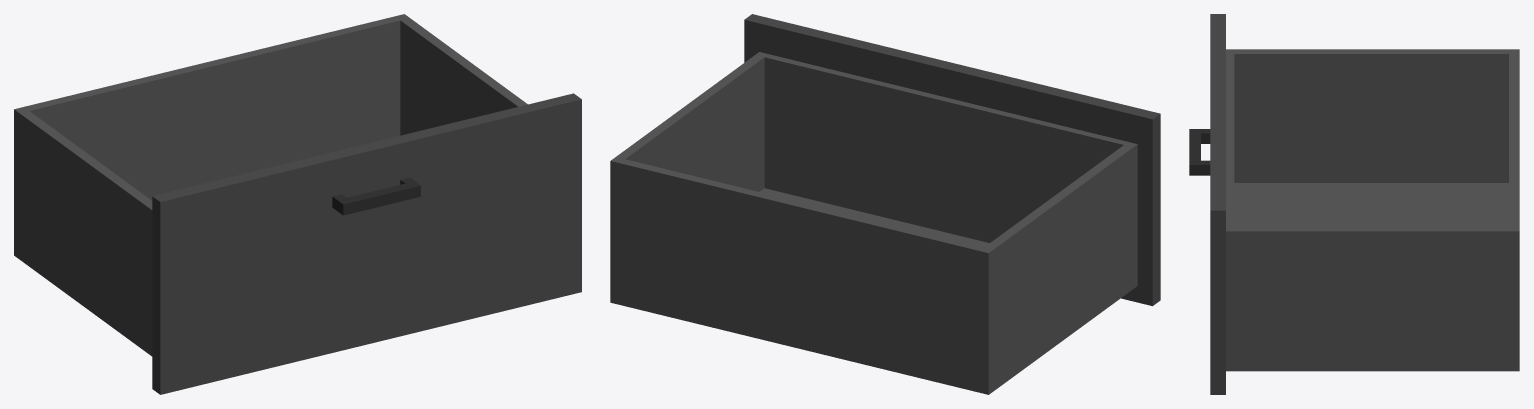
File: TV_Table1_C3_02.fbx
The picture shows the model from 3 angles, left to right: view 1: azimuth 30°, elevation 25°; view 2: azimuth 150°, elevation 25°; view 3: azimuth 270°, elevation 25°; orthographic projection. The views are drawn at different scales.
Parts seen in each view (by area): view 1: TV_Table1_C3_02; view 2: TV_Table1_C3_02; view 3: TV_Table1_C3_02.
Part boxes in pixels (box(x1,y1,x2,y2)): TV_Table1_C3_02: box(14, 14, 581, 394); TV_Table1_C3_02: box(610, 14, 1160, 394); TV_Table1_C3_02: box(1189, 14, 1519, 394).
Bounding box in the file's own units: 59.97 × 26.22 × 42.61.
